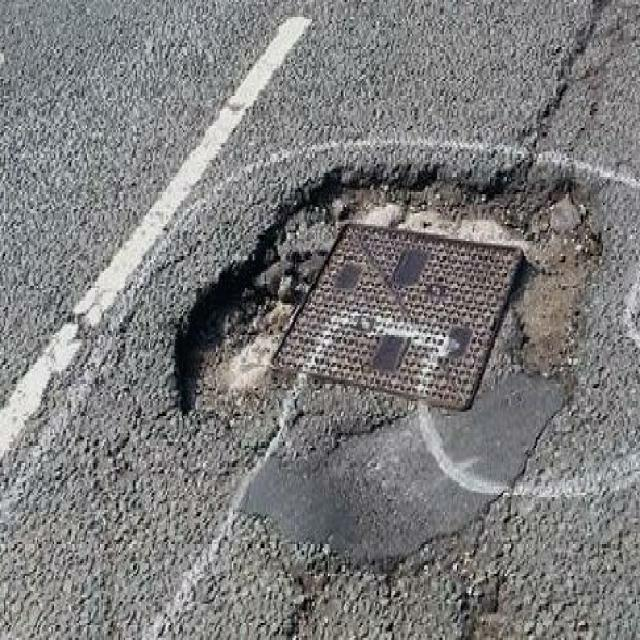Pothole: (170, 154, 610, 420)
